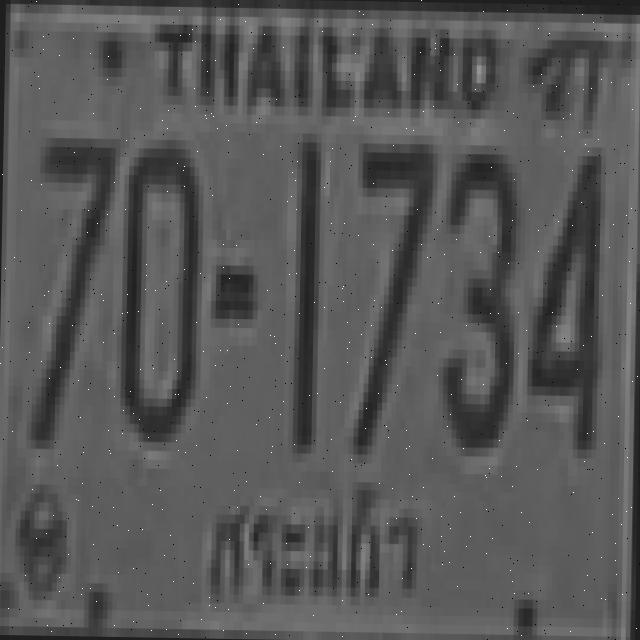0: (114, 130, 200, 433)
1: (288, 133, 316, 444)
3: (437, 144, 517, 439)
4: (526, 146, 601, 449)
7: (28, 128, 113, 440), (350, 134, 430, 446)
SaKaeo: (198, 465, 426, 621)
